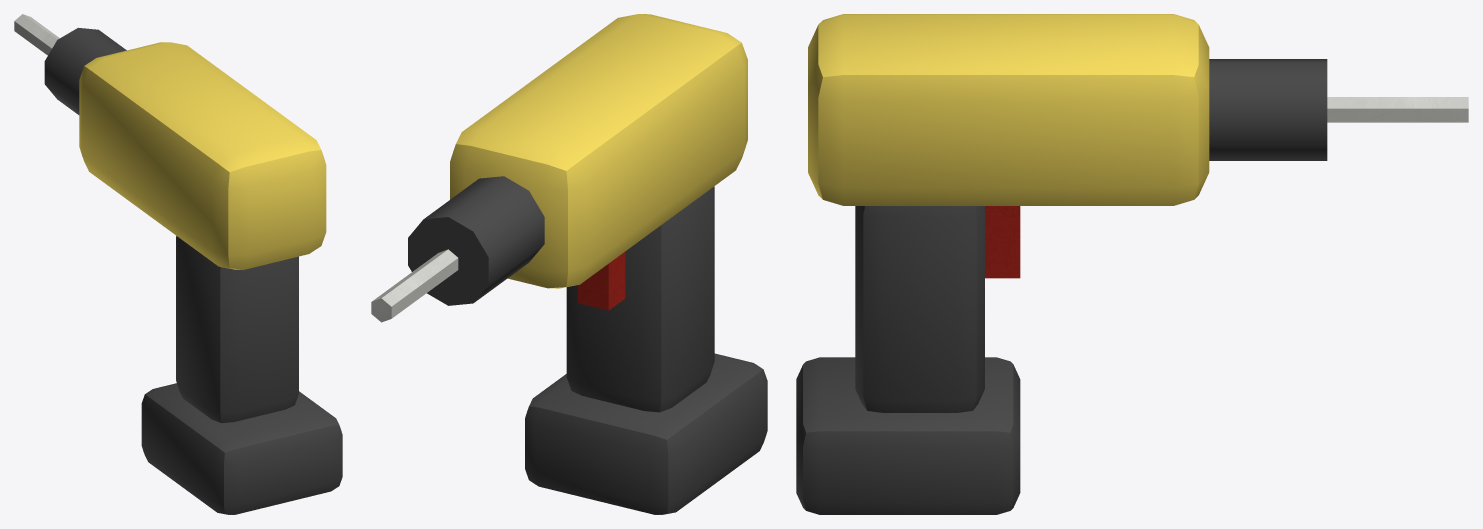
The model's file is drill.glb.
3 renders of one model, left to right at view 1: azimuth 30°, elevation 25°; view 2: azimuth 150°, elevation 25°; view 3: azimuth 270°, elevation 25°, orthographic. The views are drawn at different scales.
Parts seen in each view (by area): view 1: Drill; view 2: Drill; view 3: Drill.
Boxes of the visible parts, x1,y1,x2,y2 form: Drill: [14, 14, 342, 514]; Drill: [371, 14, 767, 514]; Drill: [796, 14, 1468, 514].
Bounding box in the file's own units: 0.08 × 0.21 × 0.285.
Materials: 4 (2 with a texture image).
